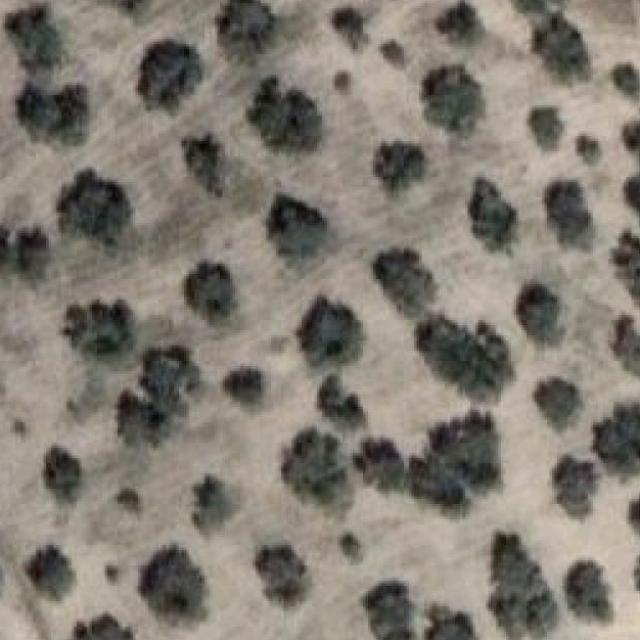Tree: (419, 310, 510, 403), (118, 346, 200, 446), (487, 532, 557, 640), (138, 545, 208, 624), (59, 170, 131, 244), (251, 78, 322, 151), (281, 427, 348, 504), (296, 298, 364, 367), (15, 83, 88, 146), (138, 39, 203, 108), (422, 64, 484, 134), (373, 248, 434, 316), (5, 6, 65, 75), (443, 410, 503, 479), (406, 458, 476, 517), (532, 13, 589, 82), (64, 300, 136, 354), (268, 195, 327, 260), (217, 0, 279, 60), (593, 402, 640, 476), (468, 177, 516, 249), (544, 180, 593, 249), (184, 262, 238, 324), (255, 545, 308, 607), (516, 282, 566, 347), (363, 586, 414, 640), (566, 560, 610, 622), (26, 545, 74, 601), (0, 228, 51, 280), (317, 376, 367, 429), (552, 456, 594, 519), (356, 438, 406, 490), (192, 475, 232, 537), (184, 134, 223, 197), (534, 380, 582, 431), (376, 141, 423, 190), (436, 1, 486, 43), (613, 233, 640, 308), (46, 447, 82, 502), (610, 315, 640, 377), (66, 614, 137, 640), (428, 608, 478, 640), (332, 8, 369, 50), (530, 108, 566, 150), (225, 371, 264, 404), (620, 105, 640, 166), (623, 175, 640, 226), (616, 65, 640, 98), (509, 0, 573, 12), (578, 135, 601, 165), (334, 68, 357, 98), (342, 532, 362, 562), (383, 39, 405, 66), (629, 494, 640, 546), (102, 0, 150, 11), (118, 489, 141, 511), (107, 565, 122, 584), (634, 555, 640, 602)
